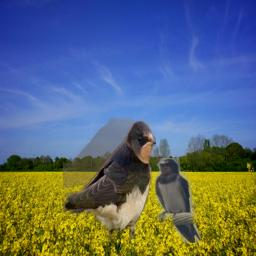Swallow: (63, 118, 156, 239), (155, 158, 201, 243)
